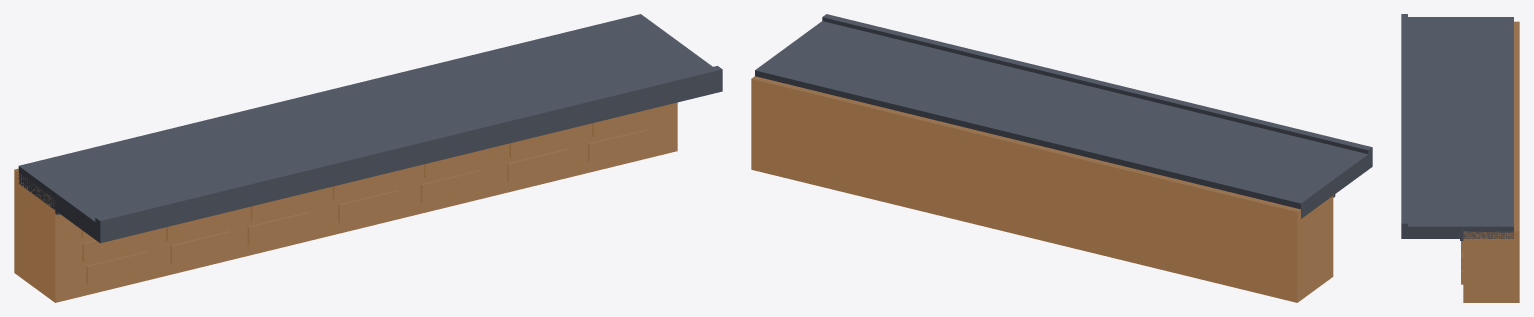
Rendered from console.glb.
3 views of the same model, side by side, from view 1: azimuth 30°, elevation 25°; view 2: azimuth 150°, elevation 25°; view 3: azimuth 270°, elevation 25° (orthographic). The views are drawn at different scales.
Visible parts, largest first — view 1: console; view 2: console; view 3: console.
Part boxes in pixels (bbox=[...]): console: bbox=[14, 14, 722, 302]; console: bbox=[751, 14, 1372, 302]; console: bbox=[1401, 14, 1519, 302].
Size of the model in its own units: 4.4 by 0.775 by 1.05.
